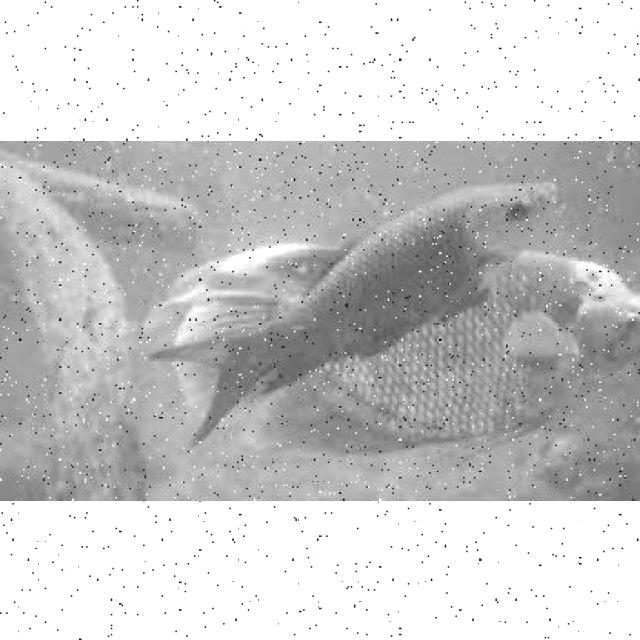gurame: (186, 256, 632, 458)
